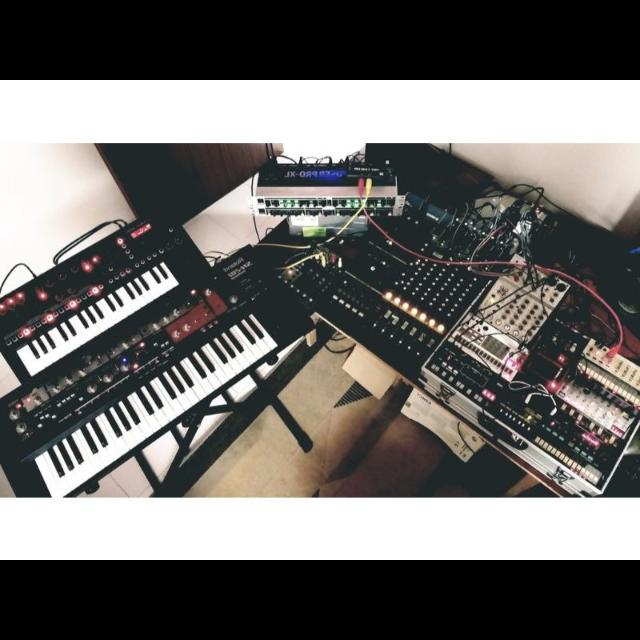Electronic-Keyboard: (10, 358, 254, 458), (10, 245, 198, 329)
